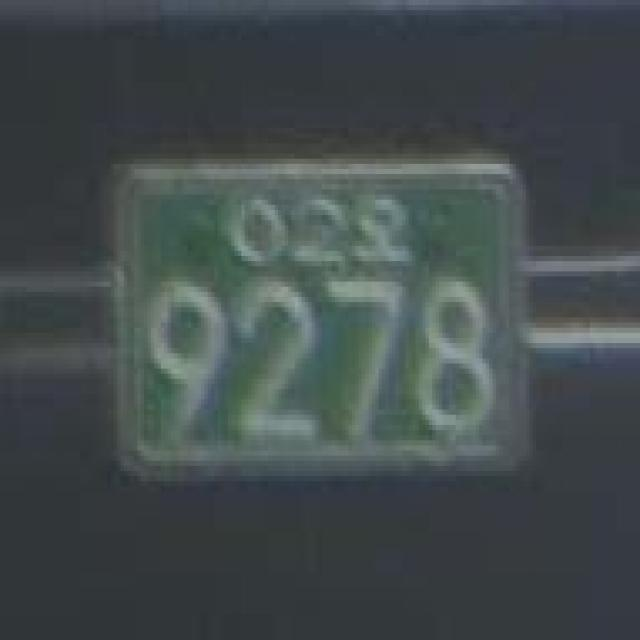illegal_plate: (92, 132, 548, 504)
